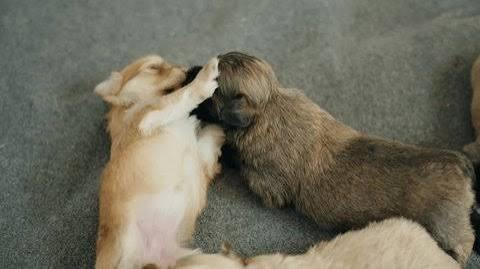puppy-dog: (187, 47, 480, 269), (96, 54, 247, 269), (240, 216, 459, 269)
